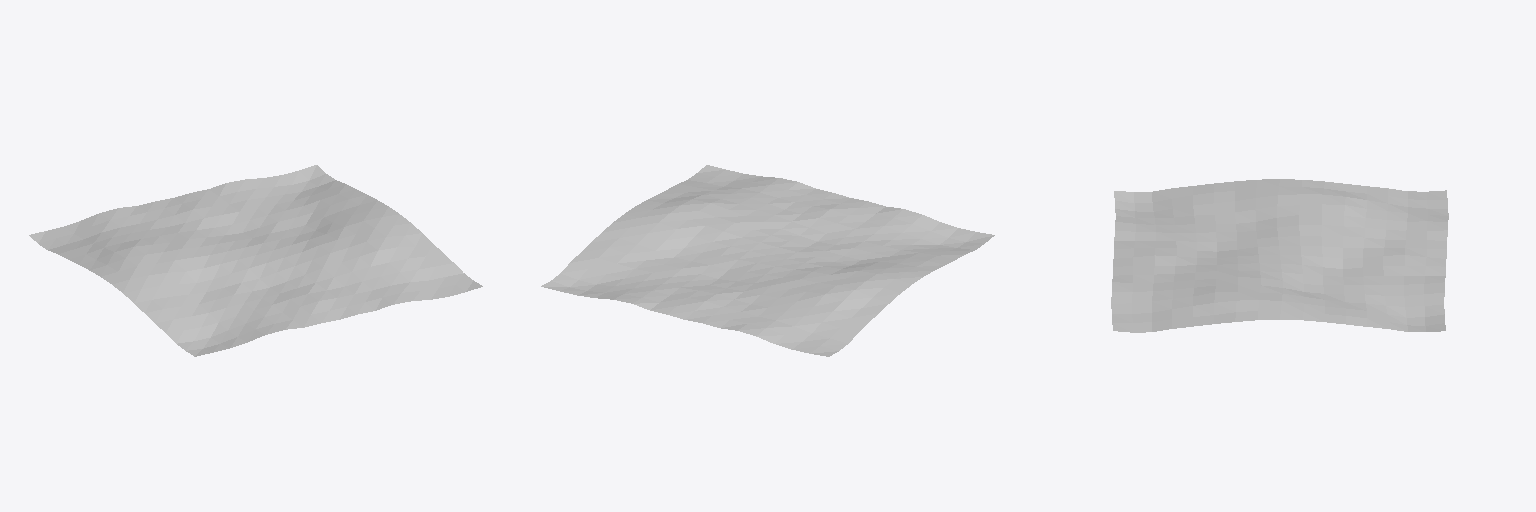
File: water_000014.obj
The picture shows the model from 3 angles: view 1: azimuth 30°, elevation 25°; view 2: azimuth 150°, elevation 25°; view 3: azimuth 270°, elevation 25°; orthographic projection.
Parts seen in each view (by area): view 1: Plan.003_Plan.001; view 2: Plan.003_Plan.001; view 3: Plan.003_Plan.001.
Boxes of the visible parts, box(x1,y1,x2,y2) form: Plan.003_Plan.001: box(29, 165, 482, 356); Plan.003_Plan.001: box(541, 165, 994, 356); Plan.003_Plan.001: box(1111, 179, 1448, 332).
Size of the model in its own units: 60524 by 3514 by 61114.